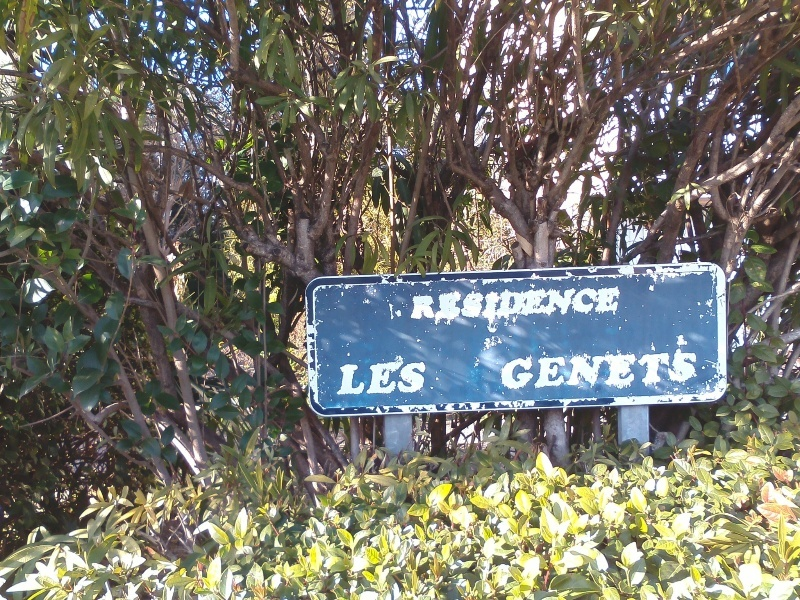text: (513, 347, 528, 390), (529, 347, 544, 390), (545, 347, 560, 390), (561, 347, 576, 390), (577, 347, 592, 390), (593, 347, 608, 390), (609, 347, 624, 390), (625, 347, 640, 390), (641, 347, 656, 390), (657, 347, 672, 390), (673, 347, 688, 390), (689, 347, 704, 390), (417, 284, 432, 322), (433, 284, 448, 322), (449, 284, 464, 322), (465, 284, 480, 322), (481, 284, 496, 322), (497, 284, 512, 322), (513, 284, 528, 322), (529, 284, 544, 322), (545, 284, 560, 322), (561, 284, 576, 322), (577, 284, 592, 322), (593, 284, 608, 322), (353, 360, 368, 396), (369, 360, 384, 396), (385, 360, 400, 396), (401, 360, 416, 396), (417, 360, 431, 396), (609, 284, 622, 322), (340, 360, 352, 396), (408, 284, 416, 322), (505, 347, 512, 390), (705, 347, 706, 390)
